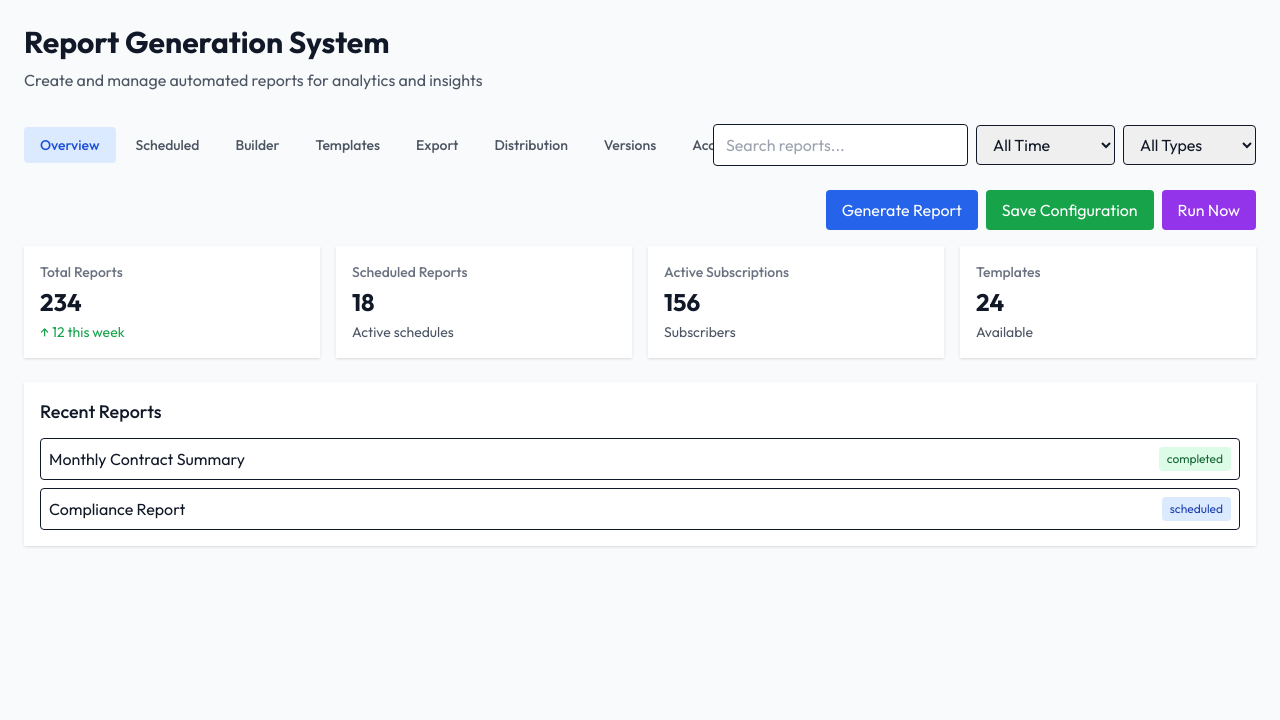
Test: ReportGenerationSystem › Scheduled Report Automation › should allow creating scheduled report
The width and height of the screenshot is (1280, 720).
Click the tab "Scheduled".
click(167, 145)  # box [120,127,215,163]
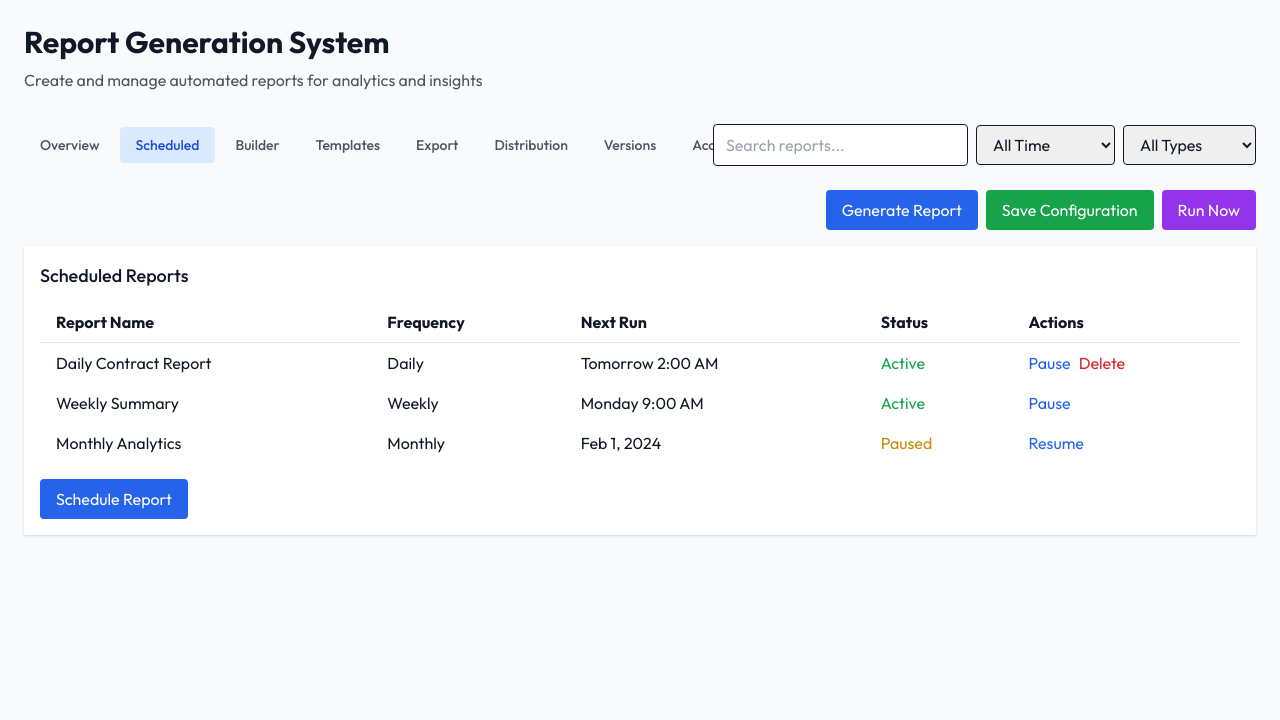
Click the button "Schedule Report".
click(114, 499)  # box [40,479,188,519]
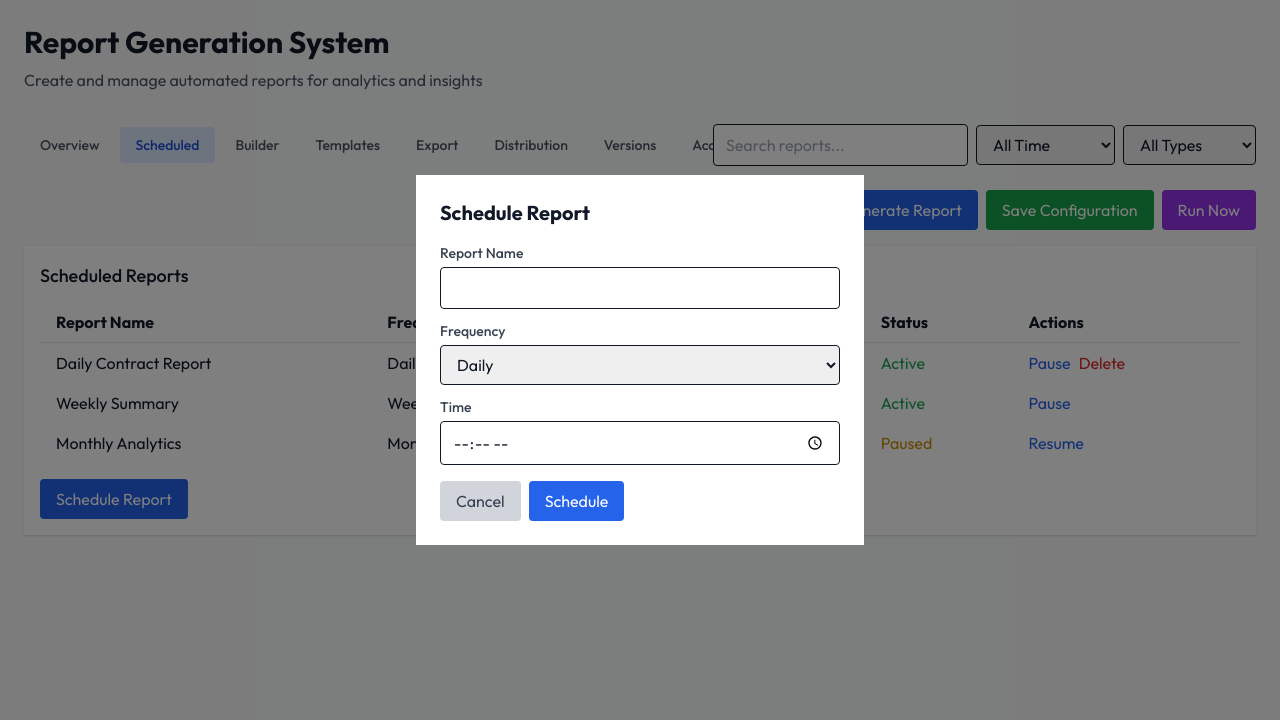
Expected: the field labelled "Report Name" is shown, [440,267,840,309]
Expected: the dropdown labelled "Frequency" is shown, [440,345,840,385]
Expected: the time field labelled "Time" is shown, [440,421,840,465]
